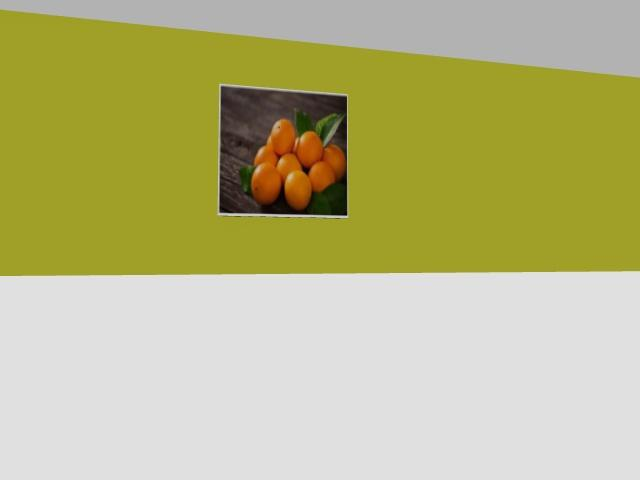orange: (252, 163, 281, 204), (285, 170, 311, 209), (296, 131, 322, 168), (270, 118, 295, 155), (322, 144, 346, 181), (308, 161, 335, 192), (277, 153, 301, 184), (254, 145, 278, 165), (266, 135, 274, 150), (292, 137, 299, 153)
